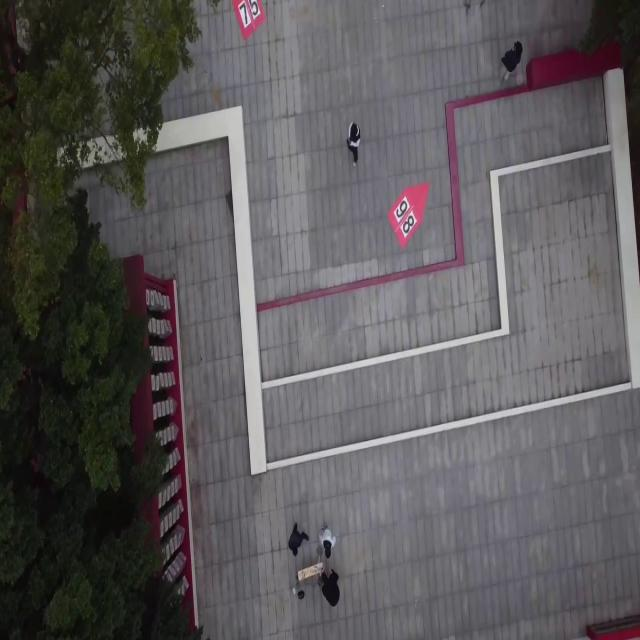-sign-: (387, 180, 429, 249), (233, 0, 265, 39)
